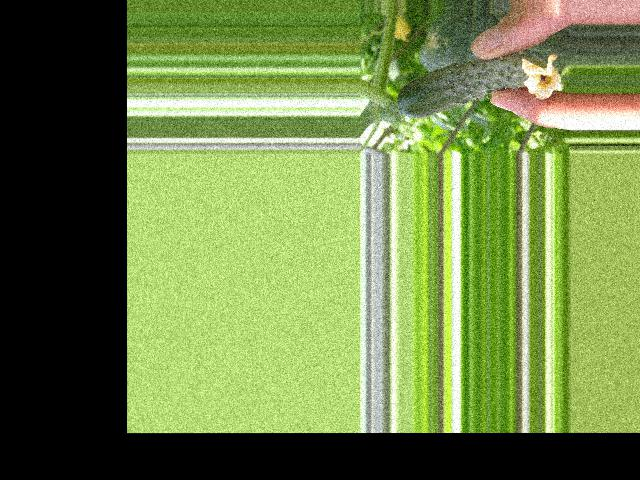cucumber: (396, 53, 561, 117)
